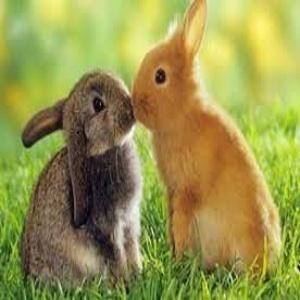rabbit: (21, 0, 282, 287)
